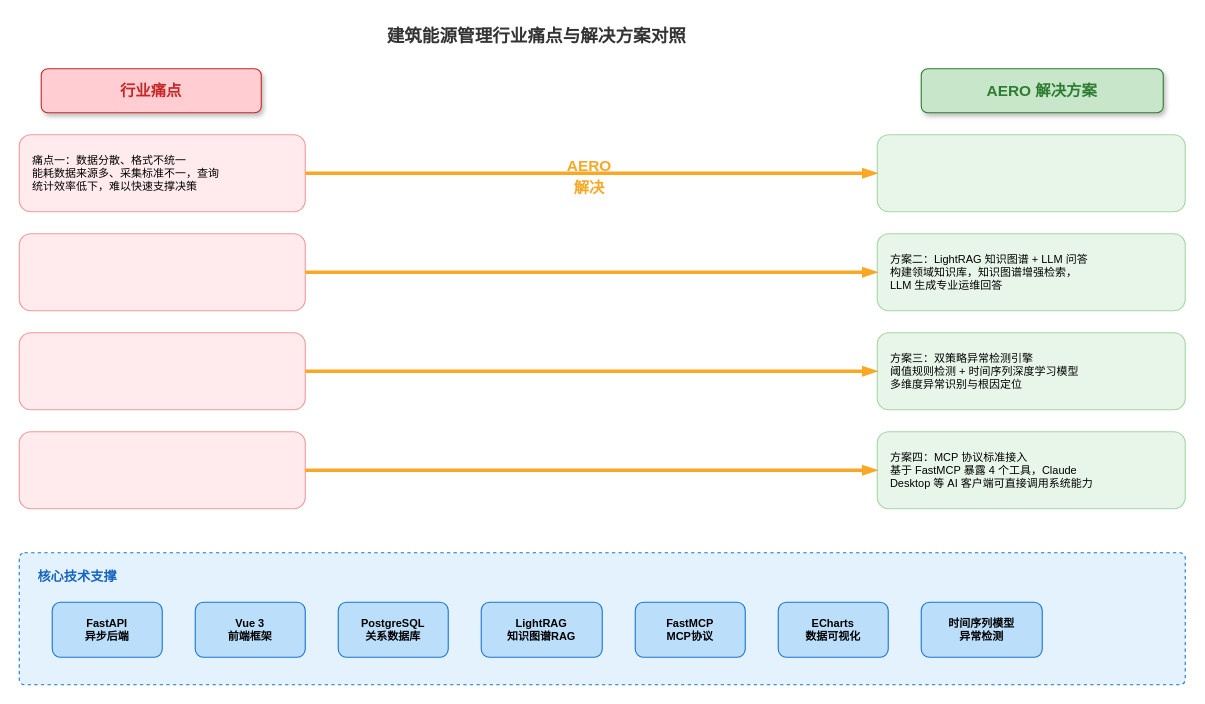
Image size: 1205x704. Some labels were removed from this diagram. The shapes that lost their labels are listed below. From the top down, each one's centre as x and y in pixels, then its label:
(x=1030, y=173): 方案一：统一数据层 + 标准化接口 构建结构化能耗数据集，Pydantic Schema 强校验，RESTful API 多条件精准查询
(x=161, y=272): 痛点二：运维依赖人工经验 故障诊断响应慢、知识传承难，缺乏 智能化辅助分析手段
(x=161, y=371): 痛点三：异常检测滞后 依赖人工巡检发现异常，响应滞后， 缺乏时间序列智能分析能力
(x=161, y=470): 痛点四：缺乏 AI 工具链集成 传统系统封闭，无法与 AI Agent 对接 数据孤岛无法被大模型利用
